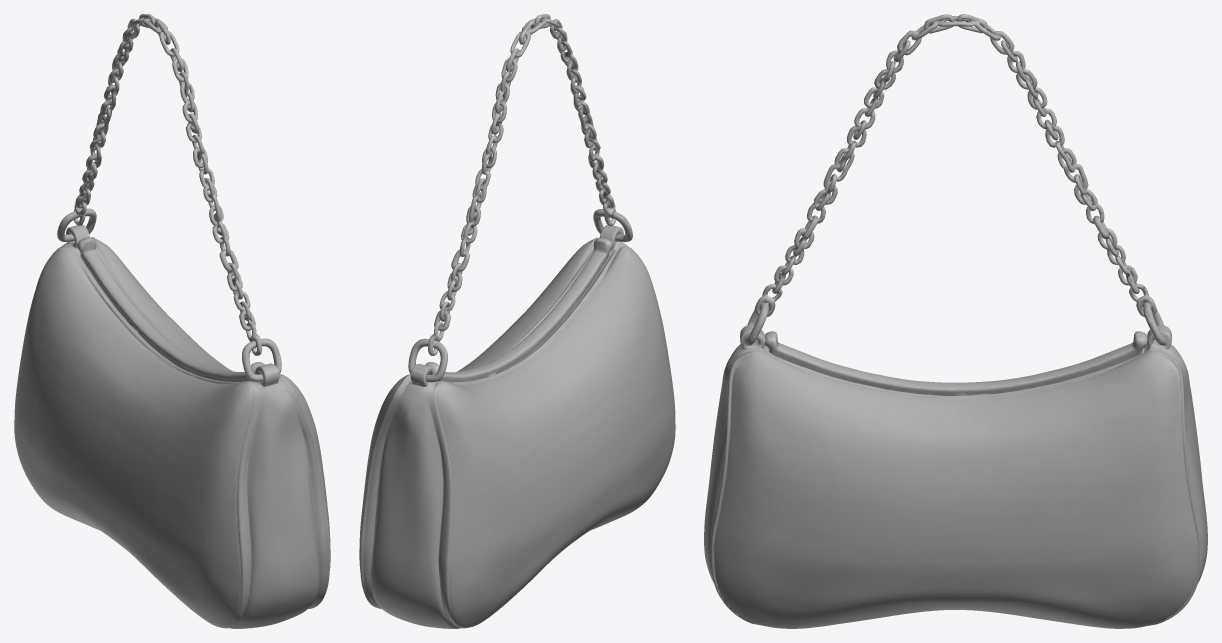
3 renders of one model, left to right at view 1: azimuth 30°, elevation 25°; view 2: azimuth 150°, elevation 25°; view 3: azimuth 270°, elevation 25°, orthographic. The views are drawn at different scales.
Visible parts, largest first — view 1: tripo_node_36a6f9f5-feb3-44c0-a7d0-852b2e4bb3ab; view 2: tripo_node_36a6f9f5-feb3-44c0-a7d0-852b2e4bb3ab; view 3: tripo_node_36a6f9f5-feb3-44c0-a7d0-852b2e4bb3ab.
Boxes of the visible parts, x1,y1,x2,y2 form: tripo_node_36a6f9f5-feb3-44c0-a7d0-852b2e4bb3ab: (14,14,330,628); tripo_node_36a6f9f5-feb3-44c0-a7d0-852b2e4bb3ab: (359,14,675,628); tripo_node_36a6f9f5-feb3-44c0-a7d0-852b2e4bb3ab: (704,14,1207,628).
Bounding box in the file's own units: 0.2913 × 1 × 0.7742.
1 material, 1 textured.
